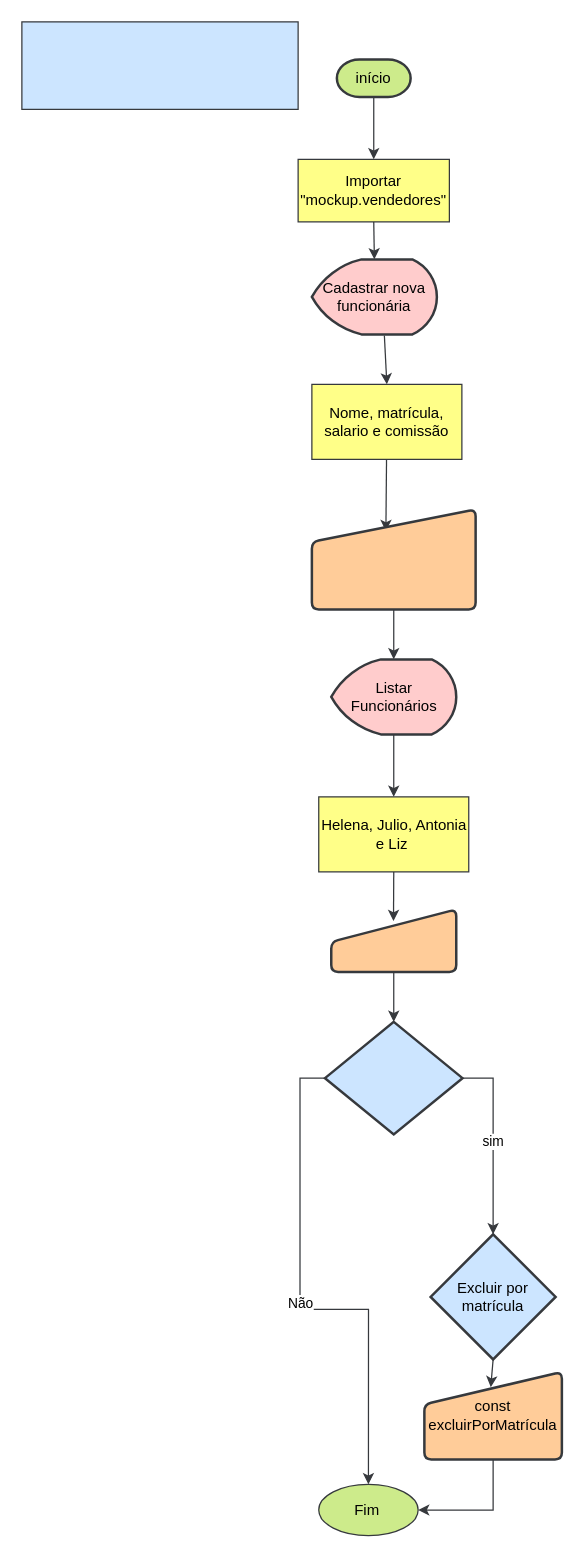
This 585x1558 diagram has some shape labels left out. Here are the shapes that lost their labels. From the top down, the box of each, then its label:
(21, 21, 298, 109): Fluxograma do Código Completo
(310, 508, 476, 610): const cadastrar = (nome, matricula, salario, comissão)
(329, 908, 457, 972): const listar
(323, 1020, 463, 1135): Deseja excluir funcionário?
